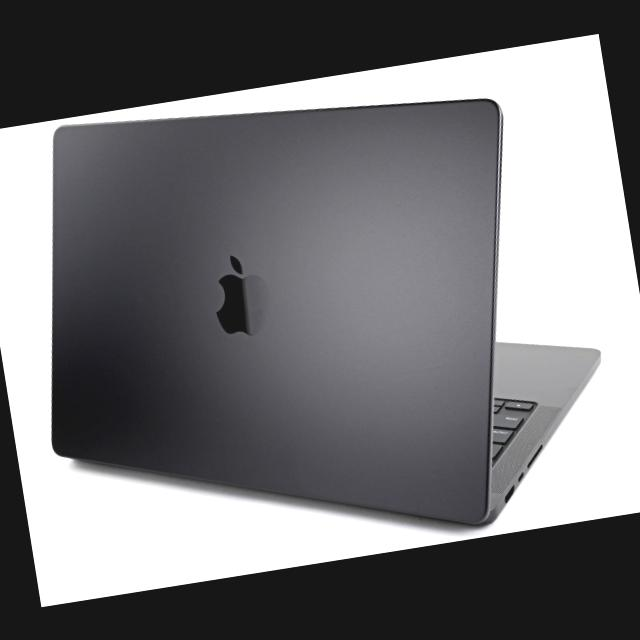laptop: (0, 44, 638, 604)
